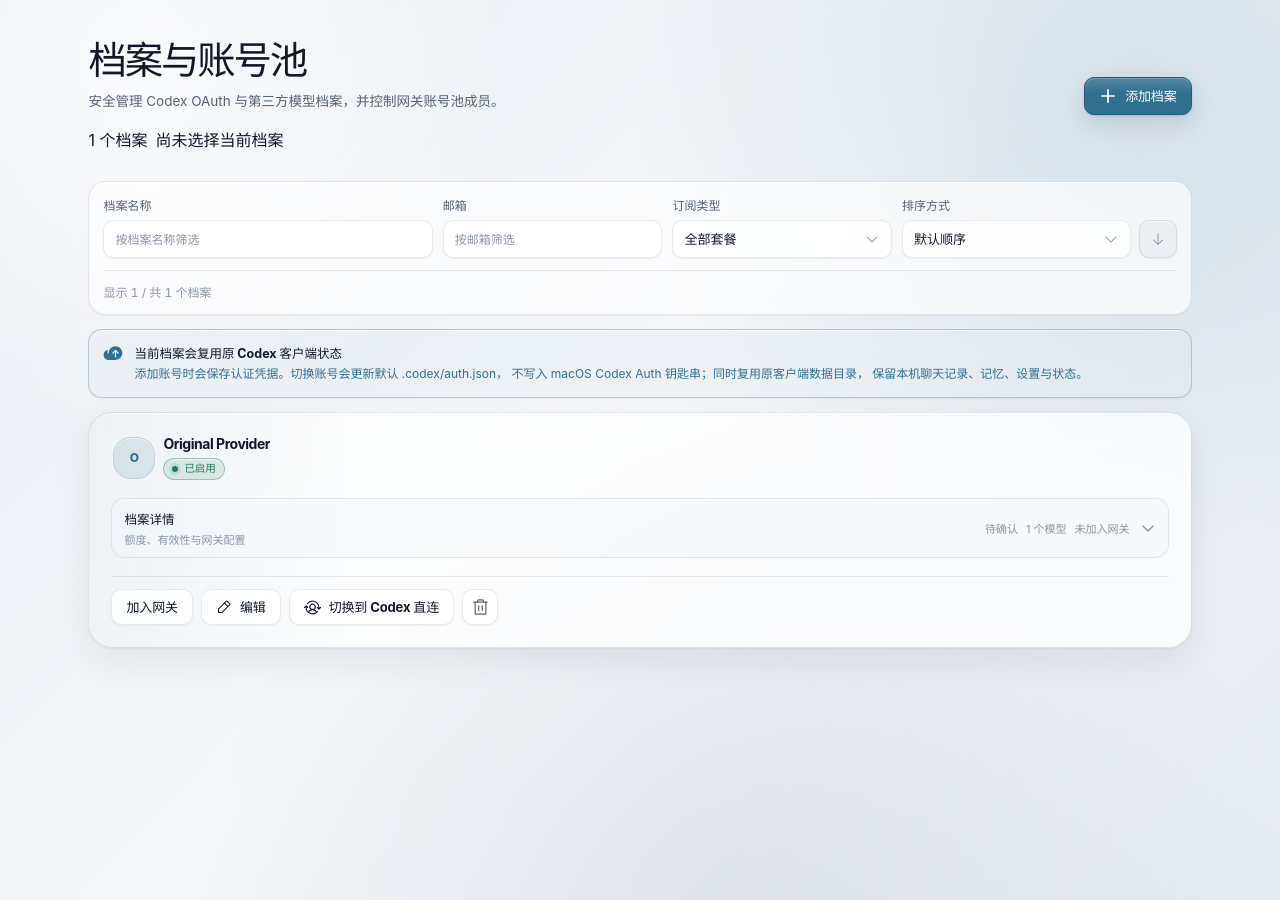
Profiles OAuth import › keeps the API edit dialog and values after a save failure
The width and height of the screenshot is (1280, 900).
Click the button with aria-label "编辑 API 服务：Original Provider".
click(241, 607)  # box [201, 589, 281, 625]
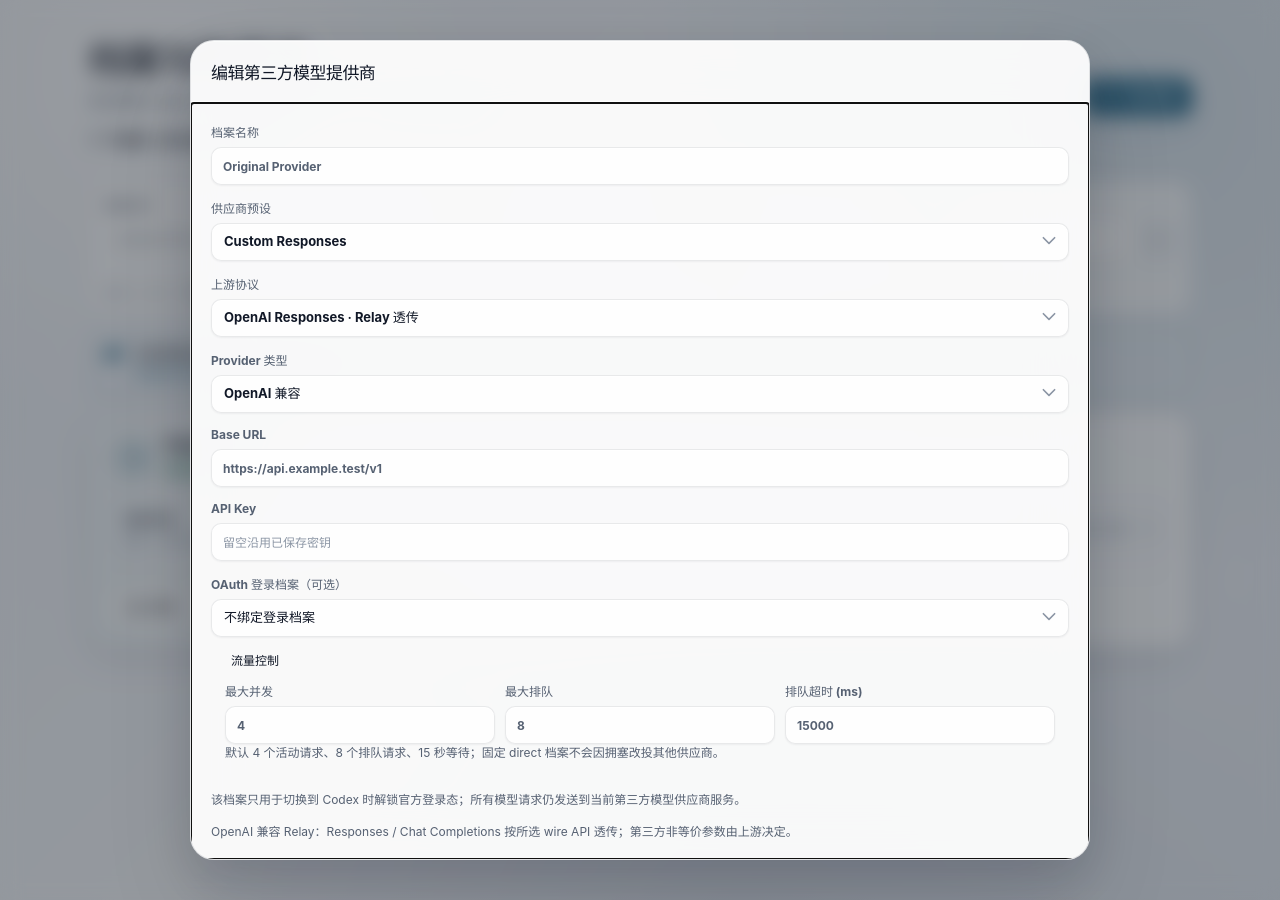
Replace the text in the field labelled "档案名称" with "Retained Provider" at (640, 166), box [211, 147, 1069, 185]
(page scrolled)
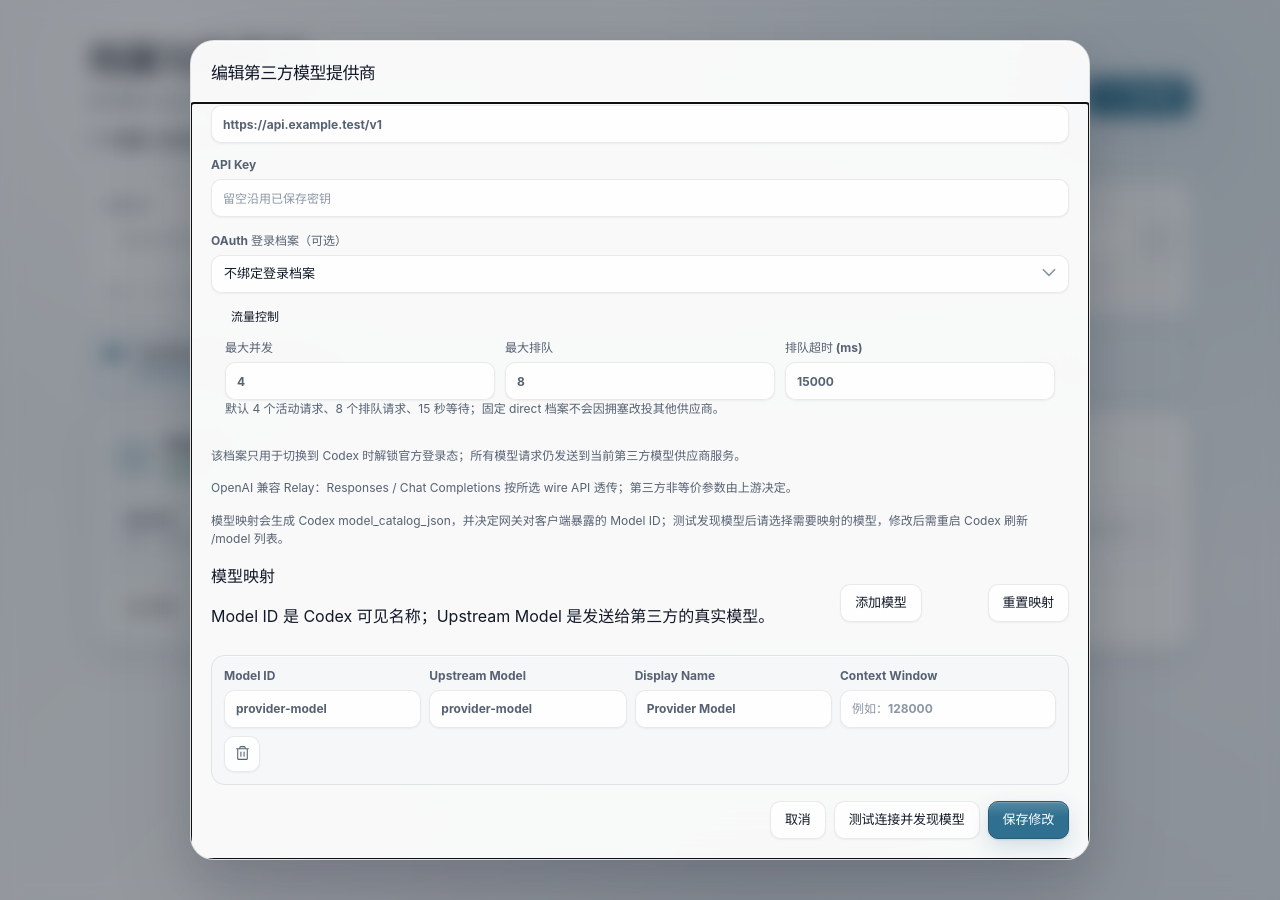
Click the button "保存修改".
click(1028, 820)  # box [988, 801, 1069, 839]
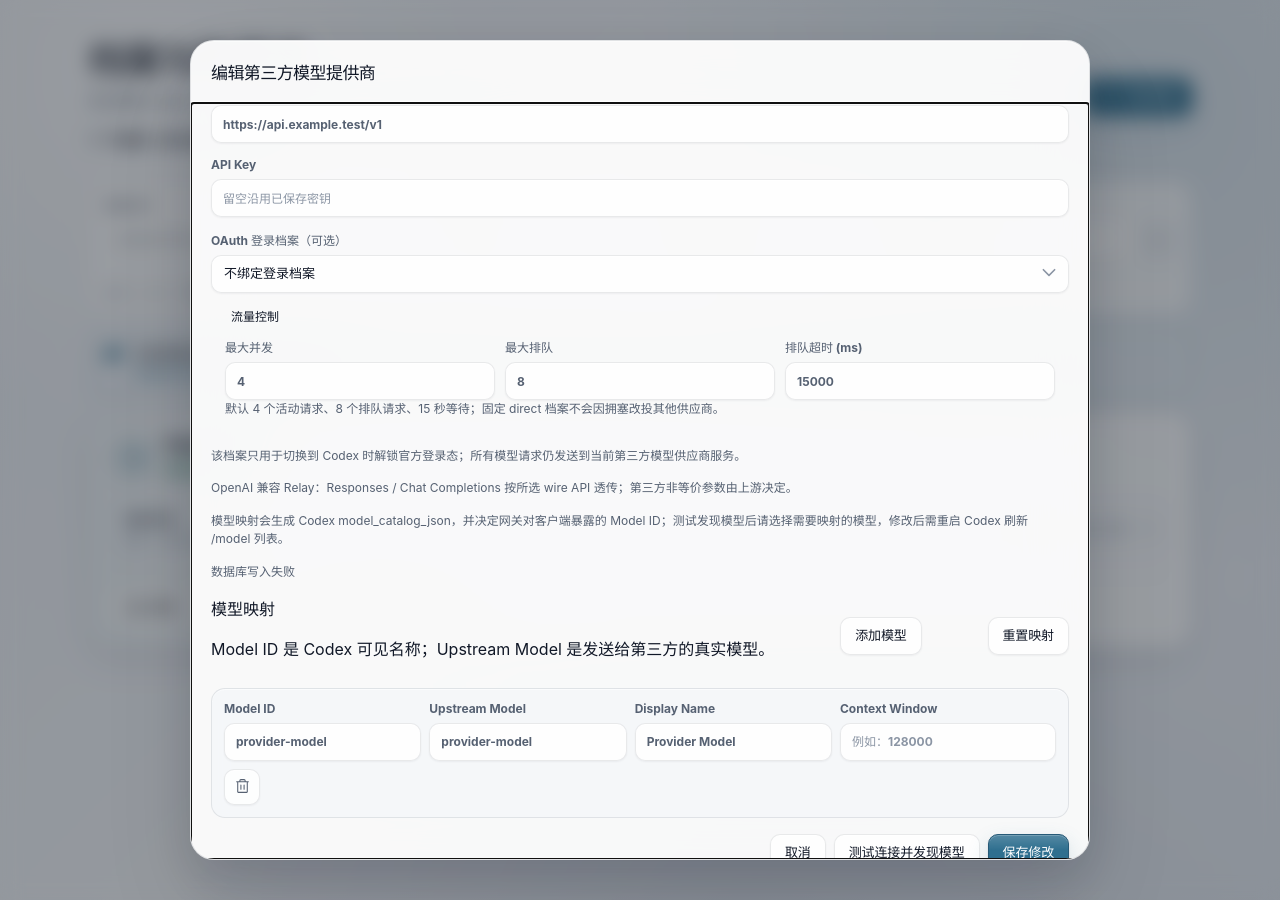
Expected: the dialog "编辑第三方模型提供商" is shown
Expected: the text "数据库写入失败" is shown, [211, 564, 295, 579]
